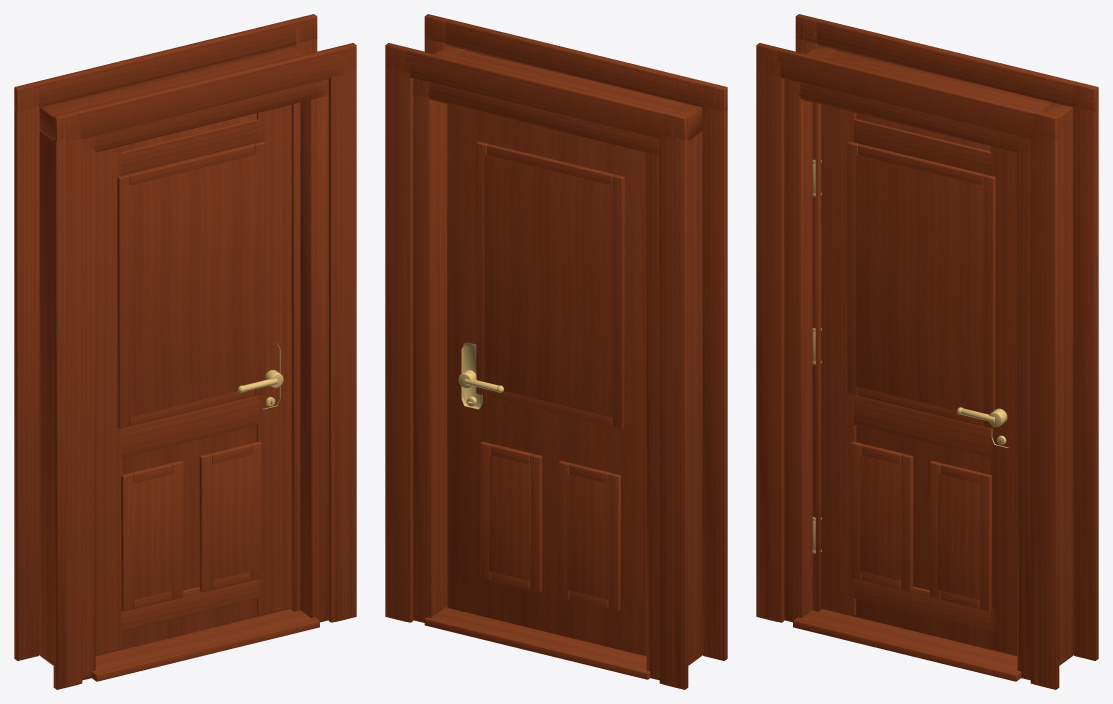
The model's file is door_premium.glb.
3 renders of one model, left to right at view 1: azimuth 30°, elevation 25°; view 2: azimuth 150°, elevation 25°; view 3: azimuth 330°, elevation 25°, orthographic.
Visible parts, largest first — view 1: MESH_LOD0_StaticFrameAssembly, MESH_LOD2_StaticFrameAssembly, MESH_LOD0_Single_UpperPanel_Exterior_Field, MESH_LOD1_StaticFrameAssembly, MESH_LOD0_Single_ExteriorLatchStile, MESH_LOD0_Single_ExteriorHingeStile, MESH_LOD1_Single_Slab, MESH_LOD0_Single_LowerPanelLeft_Exterior_Field, MESH_LOD0_Single_LowerPanelRight_Exterior_Field, MESH_LOD2_Single_Slab, MESH_LOD0_Single_ExteriorRail2, MESH_LOD0_Single_ExteriorRail3 (+10 smaller); view 2: MESH_LOD0_StaticFrameAssembly, MESH_LOD2_StaticFrameAssembly, MESH_LOD1_StaticFrameAssembly, MESH_LOD1_Single_Slab, MESH_LOD0_Single_UpperPanel_Interior_Field, MESH_LOD0_Single_Slab, MESH_LOD2_Single_Slab, MESH_LOD0_Single_LowerPanelLeft_Interior_Field, MESH_LOD0_Single_LowerPanelRight_Interior_Field, MESH_LOD0_Single_UpperPanel_Interior_MouldingLeft, MESH_LOD0_Single_UpperPanel_Interior_MouldingRight, MESH_LOD0_Single_LowerPanelLeft_Interior_MouldingLeft (+6 smaller); view 3: MESH_LOD0_StaticFrameAssembly, MESH_LOD2_StaticFrameAssembly, MESH_LOD1_StaticFrameAssembly, MESH_LOD0_Single_UpperPanel_Exterior_Field, MESH_LOD0_Single_ExteriorHingeStile, MESH_LOD0_Single_ExteriorLatchStile, MESH_LOD1_Single_Slab, MESH_LOD0_Single_Slab, MESH_LOD0_Single_LowerPanelRight_Exterior_Field, MESH_LOD0_Single_LowerPanelLeft_Exterior_Field, MESH_LOD0_Single_ExteriorRail2, MESH_LOD0_Single_ExteriorRail3 (+10 smaller).
Boxes of the visible parts, x1,y1,x2,y2 form: MESH_LOD0_StaticFrameAssembly: (14, 15, 355, 687); MESH_LOD2_StaticFrameAssembly: (14, 14, 356, 689); MESH_LOD0_Single_UpperPanel_Exterior_Field: (128, 154, 256, 417); MESH_LOD1_StaticFrameAssembly: (39, 44, 347, 685); MESH_LOD0_Single_ExteriorLatchStile: (257, 104, 291, 615); MESH_LOD0_Single_ExteriorHingeStile: (95, 146, 121, 655); MESH_LOD1_Single_Slab: (97, 124, 290, 655); MESH_LOD0_Single_LowerPanelLeft_Exterior_Field: (132, 474, 174, 599); MESH_LOD0_Single_LowerPanelRight_Exterior_Field: (211, 454, 252, 580); MESH_LOD2_Single_Slab: (106, 113, 290, 653); MESH_LOD0_Single_ExteriorRail2: (117, 395, 263, 457); MESH_LOD0_Single_ExteriorRail3: (117, 119, 263, 175); MESH_LOD0_StaticFrameAssembly: (386, 14, 727, 688); MESH_LOD2_StaticFrameAssembly: (385, 14, 727, 689); MESH_LOD1_StaticFrameAssembly: (394, 46, 702, 686); MESH_LOD1_Single_Slab: (448, 104, 646, 654); MESH_LOD0_Single_UpperPanel_Interior_Field: (485, 154, 613, 417); MESH_LOD0_Single_Slab: (449, 104, 646, 655); MESH_LOD2_Single_Slab: (447, 104, 646, 656); MESH_LOD0_Single_LowerPanelLeft_Interior_Field: (567, 474, 609, 599); MESH_LOD0_Single_LowerPanelRight_Interior_Field: (489, 454, 530, 580); MESH_LOD0_Single_UpperPanel_Interior_MouldingLeft: (612, 175, 624, 428); MESH_LOD0_Single_UpperPanel_Interior_MouldingRight: (476, 141, 487, 395); MESH_LOD0_Single_LowerPanelLeft_Interior_MouldingLeft: (608, 473, 620, 611); MESH_LOD0_StaticFrameAssembly: (757, 14, 1098, 688); MESH_LOD2_StaticFrameAssembly: (756, 14, 1098, 689); MESH_LOD1_StaticFrameAssembly: (765, 46, 1073, 684); MESH_LOD0_Single_UpperPanel_Exterior_Field: (856, 154, 984, 413); MESH_LOD0_Single_ExteriorHingeStile: (821, 104, 855, 615); MESH_LOD0_Single_ExteriorLatchStile: (991, 146, 1017, 655); MESH_LOD1_Single_Slab: (822, 115, 1014, 655); MESH_LOD0_Single_Slab: (827, 113, 1016, 655); MESH_LOD0_Single_LowerPanelRight_Exterior_Field: (938, 474, 980, 599); MESH_LOD0_Single_LowerPanelLeft_Exterior_Field: (860, 454, 901, 580); MESH_LOD0_Single_ExteriorRail2: (849, 395, 995, 457); MESH_LOD0_Single_ExteriorRail3: (849, 119, 995, 175).
Size of what is drawn, in the model's own units: 1.3 by 2.37 by 0.3335.
4 materials, 1 textured.
